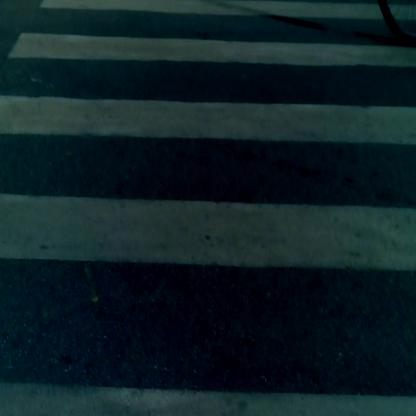crosswalk: (1, 12, 412, 416)
